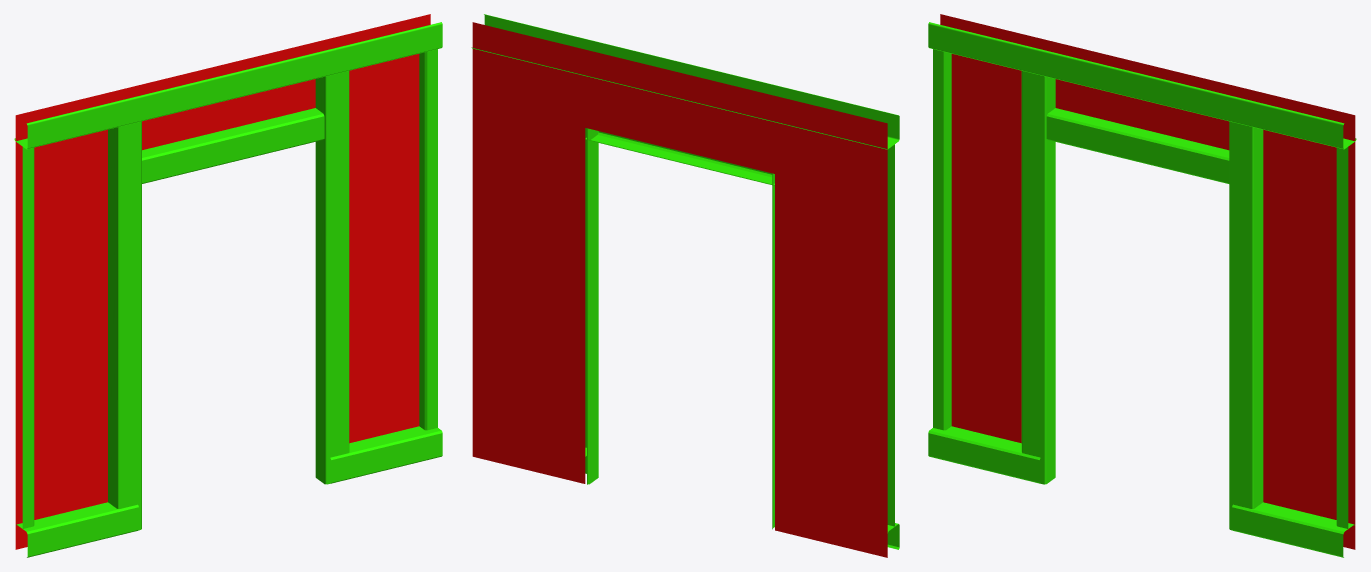
File: IntWall02door.FBX
3 renders of one model, left to right at view 1: azimuth 30°, elevation 25°; view 2: azimuth 150°, elevation 25°; view 3: azimuth 330°, elevation 25°, orthographic.
Visible parts, largest first — view 1: IntWall02door; view 2: IntWall02door; view 3: IntWall02door.
Boxes of the visible parts, x1=… form: IntWall02door: x1=14, y1=14, x2=442, y2=557; IntWall02door: x1=471, y1=14, x2=899, y2=557; IntWall02door: x1=928, y1=14, x2=1356, y2=557.
Size of the model in its own units: 98.43 by 5.48 by 98.43.
